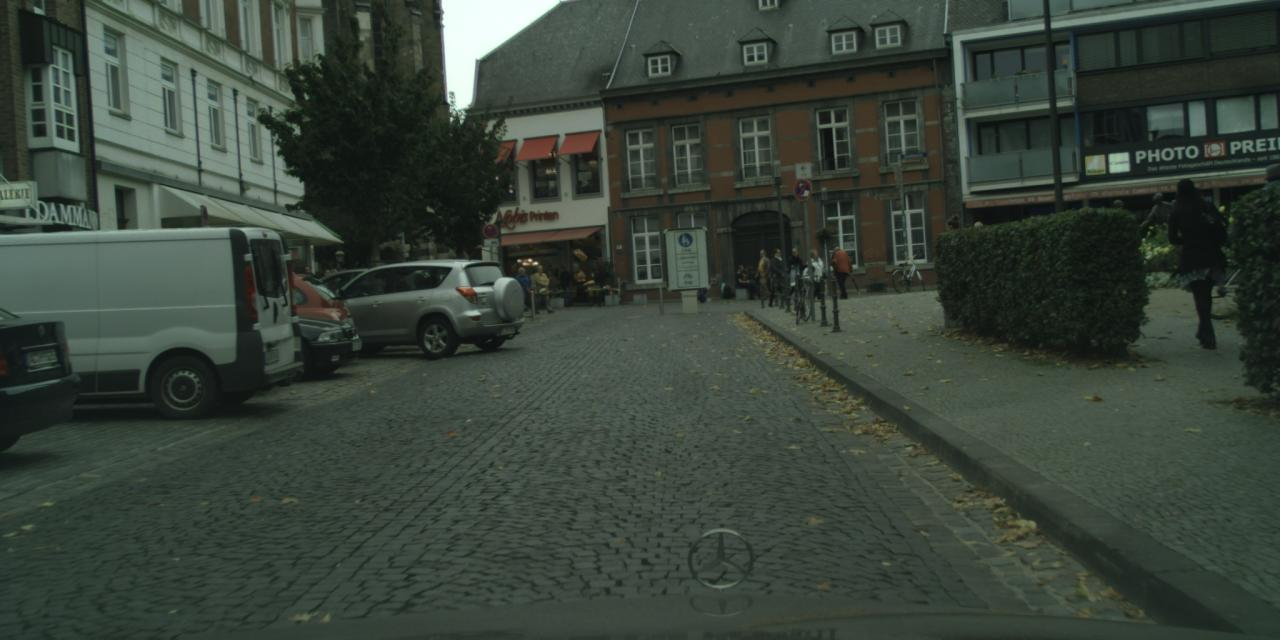ped: (1162, 178, 1230, 344), (936, 216, 972, 304), (968, 221, 994, 283), (955, 224, 979, 284), (297, 266, 320, 323), (767, 248, 789, 304), (784, 247, 806, 302), (829, 244, 850, 298), (804, 250, 825, 302), (530, 264, 550, 314), (754, 250, 773, 298), (691, 254, 710, 302), (734, 265, 760, 299), (513, 268, 531, 312), (528, 266, 545, 308), (556, 266, 572, 305), (323, 268, 338, 276)
